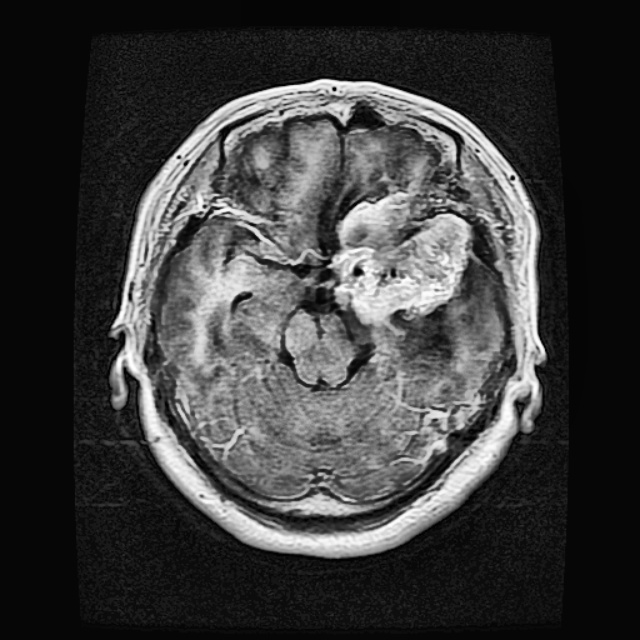Glioma: (330, 192, 472, 320)
